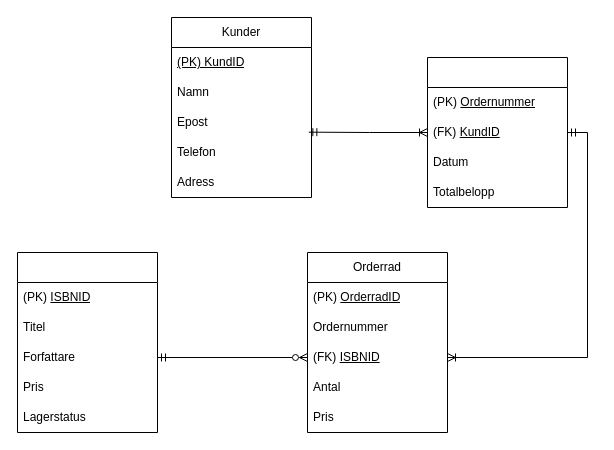
Some shapes in this 614 by 450 pixel diagram are drawn without their labels. The shapes that lost their labels are listed below. From the top down, each one's box as (x1, y1, x2, y2) in pixels, then its label:
(426, 56, 568, 208): Bestallningar
(16, 252, 158, 432): Bocker
